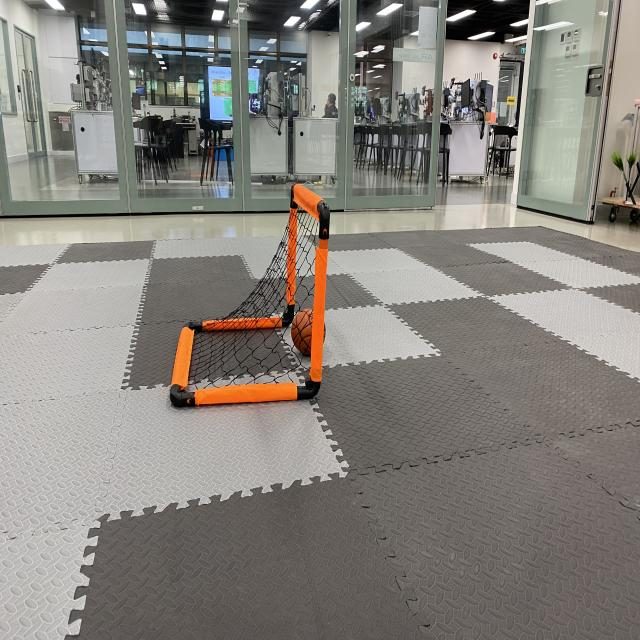ball: (288, 304, 328, 361)
gate: (164, 178, 334, 417)
